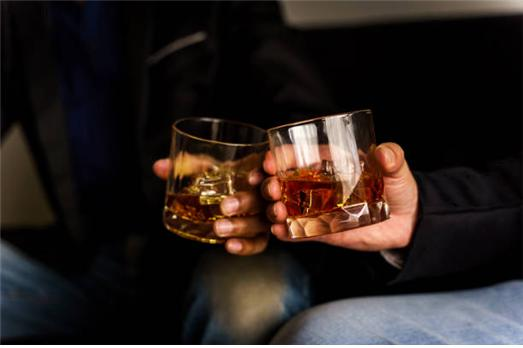alcohol: (269, 109, 390, 246), (162, 117, 268, 250)
